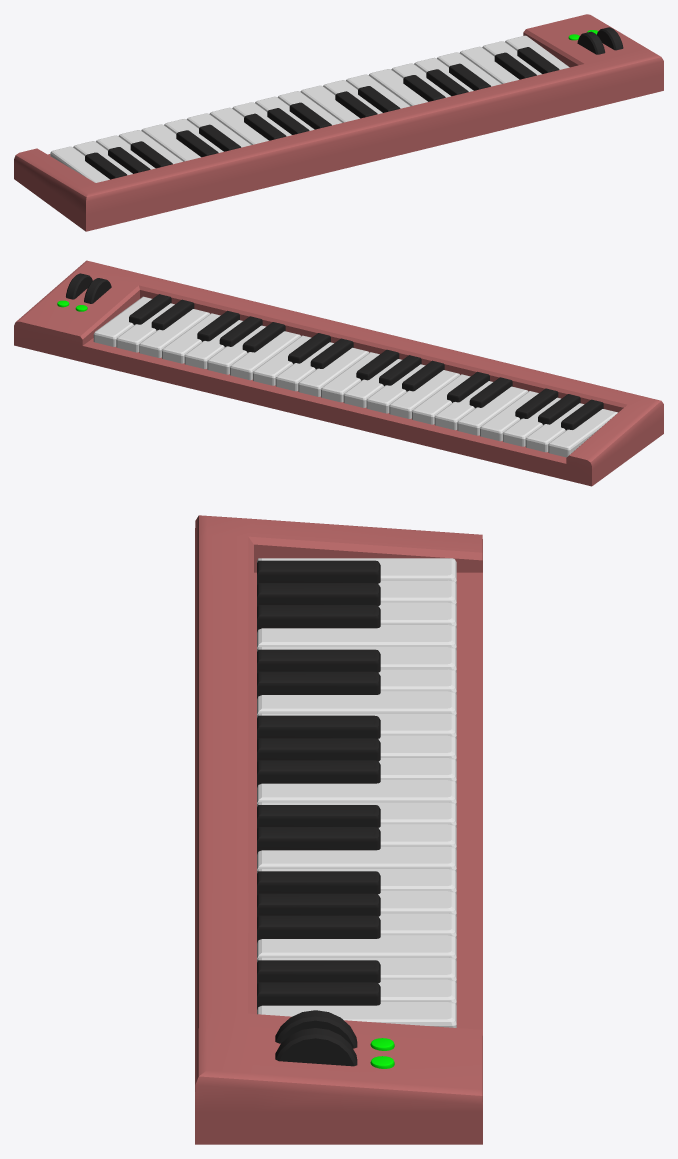
Rendered from SM_Keyboard.fbx.
3 views of the same model, one above another, from view 1: azimuth 30°, elevation 25°; view 2: azimuth 150°, elevation 25°; view 3: azimuth 270°, elevation 25° (orthographic). The views are drawn at different scales.
Parts seen in each view (by area): view 1: PianoBottom, pCube35, pCube4, pCube18, pCube20, pCube28, pCube8, pCube21, pCube5, pCube31, pCube30, pCube1 (+27 smaller); view 2: PianoBottom, pCube20, pCube4, pCube18, pCube28, pCube35, pCube8, pCube21, pCube5, pCube31, pCube30, pCube23 (+27 smaller); view 3: PianoBottom, pCube23, pCube31, pCube1, pCube21, pCube5, pCube30, pCube10, pCube36, pCube29, pCube13, pCube22 (+27 smaller).
Boxes of the visible parts, left/top/right/bottom form: PianoBottom: left=14, top=14, right=663, bottom=231; pCube35: left=459, top=46, right=519, bottom=83; pCube4: left=300, top=85, right=359, bottom=122; pCube18: left=141, top=124, right=200, bottom=161; pCube20: left=50, top=146, right=109, bottom=182; pCube28: left=368, top=69, right=427, bottom=106; pCube8: left=209, top=107, right=268, bottom=144; pCube21: left=118, top=130, right=182, bottom=164; pCube5: left=277, top=91, right=341, bottom=125; pCube31: left=437, top=52, right=501, bottom=86; pCube30: left=505, top=35, right=569, bottom=69; pCube1: left=346, top=74, right=409, bottom=108; PianoBottom: left=14, top=260, right=663, bottom=486; pCube20: left=548, top=409, right=617, bottom=457; pCube4: left=298, top=347, right=369, bottom=396; pCube18: left=457, top=386, right=528, bottom=435; pCube28: left=230, top=331, right=300, bottom=380; pCube35: left=139, top=309, right=209, bottom=357; pCube8: left=389, top=370, right=459, bottom=418; pCube21: left=480, top=391, right=538, bottom=441; pCube5: left=321, top=352, right=379, bottom=402; pCube31: left=162, top=313, right=220, bottom=363; pCube30: left=93, top=296, right=151, bottom=346; pCube23: left=412, top=374, right=470, bottom=424; PianoBottom: left=195, top=515, right=482, bottom=1144; pCube23: left=257, top=691, right=456, bottom=716; pCube31: left=257, top=935, right=456, bottom=960; pCube1: left=257, top=846, right=456, bottom=872; pCube21: left=257, top=624, right=456, bottom=650; pCube5: left=257, top=780, right=456, bottom=805; pCube30: left=257, top=1001, right=456, bottom=1027; pCube10: left=257, top=760, right=380, bottom=787; pCube36: left=257, top=982, right=380, bottom=1009; pCube29: left=257, top=915, right=380, bottom=942; pCube13: left=257, top=671, right=380, bottom=698; pCube22: left=257, top=605, right=380, bottom=632.
Size of the model in its own units: 48.15 by 3.59 by 10.39.
